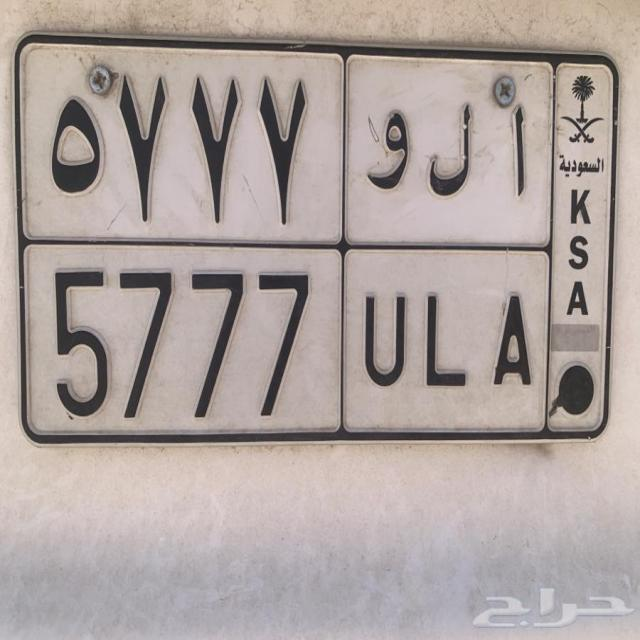license_plate: (16, 236, 553, 442)
